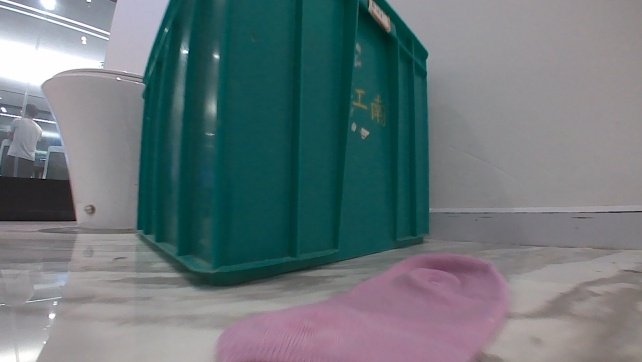socks: (209, 245, 516, 361)
toilet: (32, 64, 146, 233)
